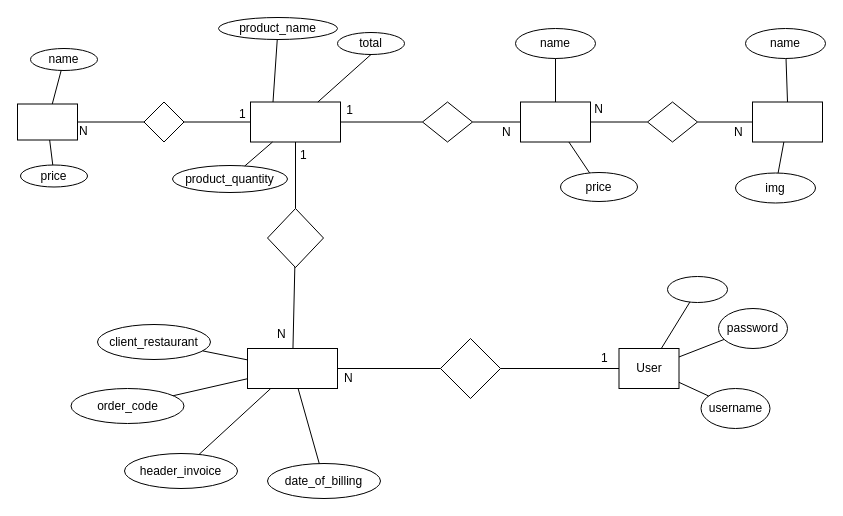
This 843x516 diagram has some shape labels left out. The shapes that lost their labels are listed below. From the top down, each one's centre as x and y in pixels, then its label:
At point (47, 121): "Drink".
At point (295, 121): "Header Invoice".
At point (555, 121): "Dish".
At point (787, 121): "Ingredient".
At point (697, 289): "email".
At point (292, 368): "Invoice Detail".
